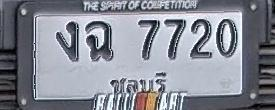0: (216, 18, 237, 57)
2: (190, 18, 212, 58)
7: (164, 18, 186, 59), (138, 19, 160, 60)
A07: (56, 21, 79, 61)
A09: (86, 20, 114, 61)
CBI: (108, 70, 168, 93)
